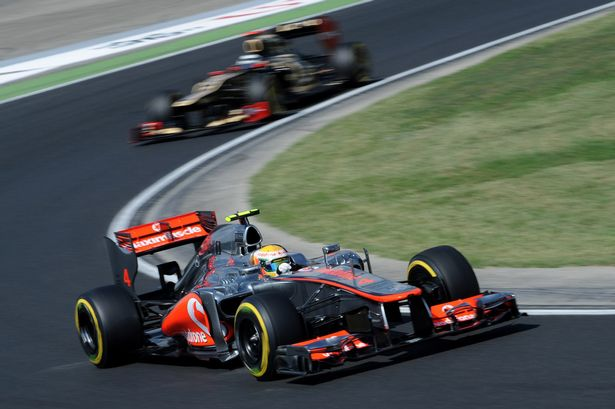race car: (67, 206, 531, 386), (123, 12, 373, 149)
